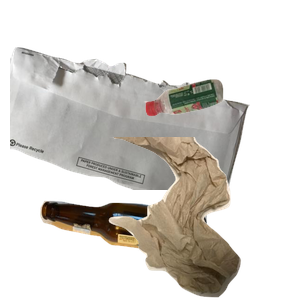glass: (37, 198, 236, 300)
paper: (10, 45, 250, 225)
plastic: (142, 77, 300, 186)
trash: (103, 137, 300, 300)
